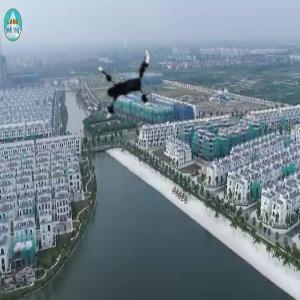drone: (74, 35, 170, 131)
